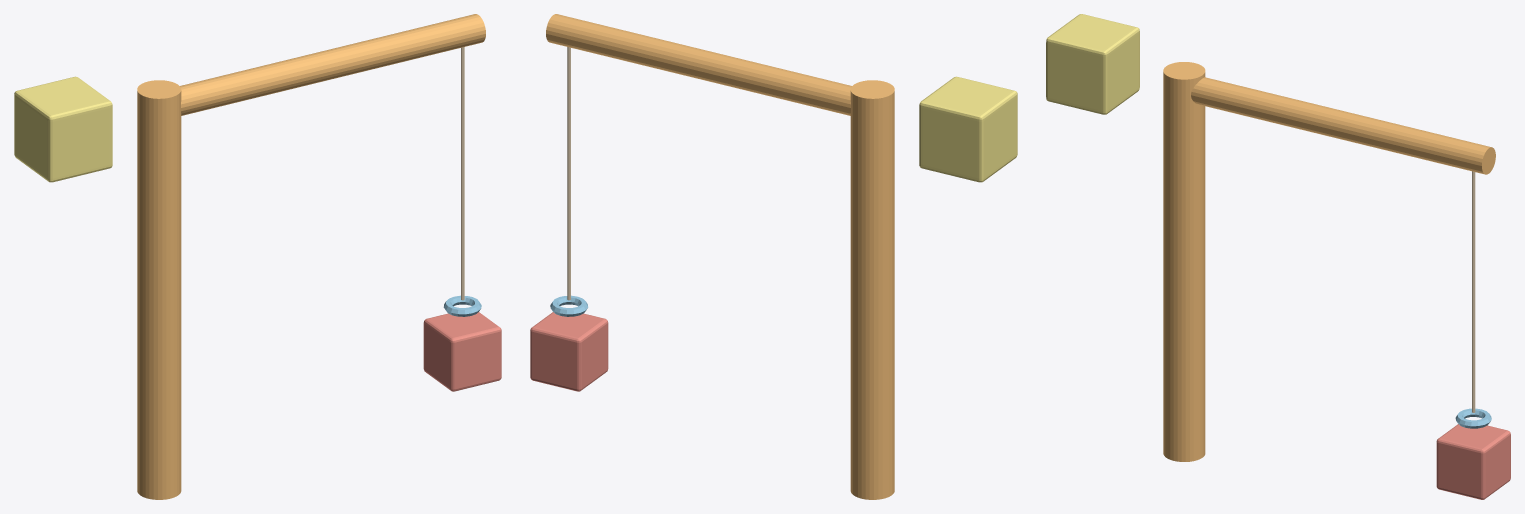
The model's file is kran_lod1.fbx.
3 renders of one model, left to right at view 1: azimuth 30°, elevation 25°; view 2: azimuth 150°, elevation 25°; view 3: azimuth 330°, elevation 25°, orthographic. The views are drawn at different scales.
Parts seen in each view (by area): view 1: Kran_Base_LOD1, Kran_Arm_LOD1, Kran_Counterweight_LOD1, Kran_Container_LOD1, Kran_Rope_LOD1, Kran_Hook_LOD1; view 2: Kran_Base_LOD1, Kran_Arm_LOD1, Kran_Counterweight_LOD1, Kran_Container_LOD1, Kran_Rope_LOD1, Kran_Hook_LOD1; view 3: Kran_Base_LOD1, Kran_Arm_LOD1, Kran_Counterweight_LOD1, Kran_Container_LOD1, Kran_Rope_LOD1, Kran_Hook_LOD1.
Boxes of the visible parts, box(x1,y1,x2,y2) form: Kran_Base_LOD1: box(137, 80, 181, 499); Kran_Arm_LOD1: box(180, 14, 485, 115); Kran_Counterweight_LOD1: box(14, 76, 112, 182); Kran_Container_LOD1: box(423, 312, 501, 391); Kran_Rope_LOD1: box(461, 47, 464, 300); Kran_Hook_LOD1: box(443, 295, 481, 316); Kran_Base_LOD1: box(850, 80, 894, 499); Kran_Arm_LOD1: box(546, 14, 851, 115); Kran_Counterweight_LOD1: box(919, 76, 1017, 182); Kran_Container_LOD1: box(530, 312, 608, 391); Kran_Rope_LOD1: box(567, 47, 570, 300); Kran_Hook_LOD1: box(550, 295, 588, 316); Kran_Base_LOD1: box(1163, 62, 1205, 461); Kran_Arm_LOD1: box(1191, 77, 1495, 174); Kran_Counterweight_LOD1: box(1046, 14, 1139, 114); Kran_Container_LOD1: box(1436, 424, 1510, 499); Kran_Rope_LOD1: box(1472, 171, 1475, 412); Kran_Hook_LOD1: box(1455, 408, 1491, 428).
Size of the model in its own units: 14.3 by 12.5 by 2.
